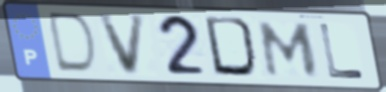2: (153, 13, 214, 80)
D: (201, 15, 264, 82), (47, 10, 100, 77)
L: (316, 21, 368, 80)
M: (258, 19, 321, 79)
V: (96, 12, 150, 78)
